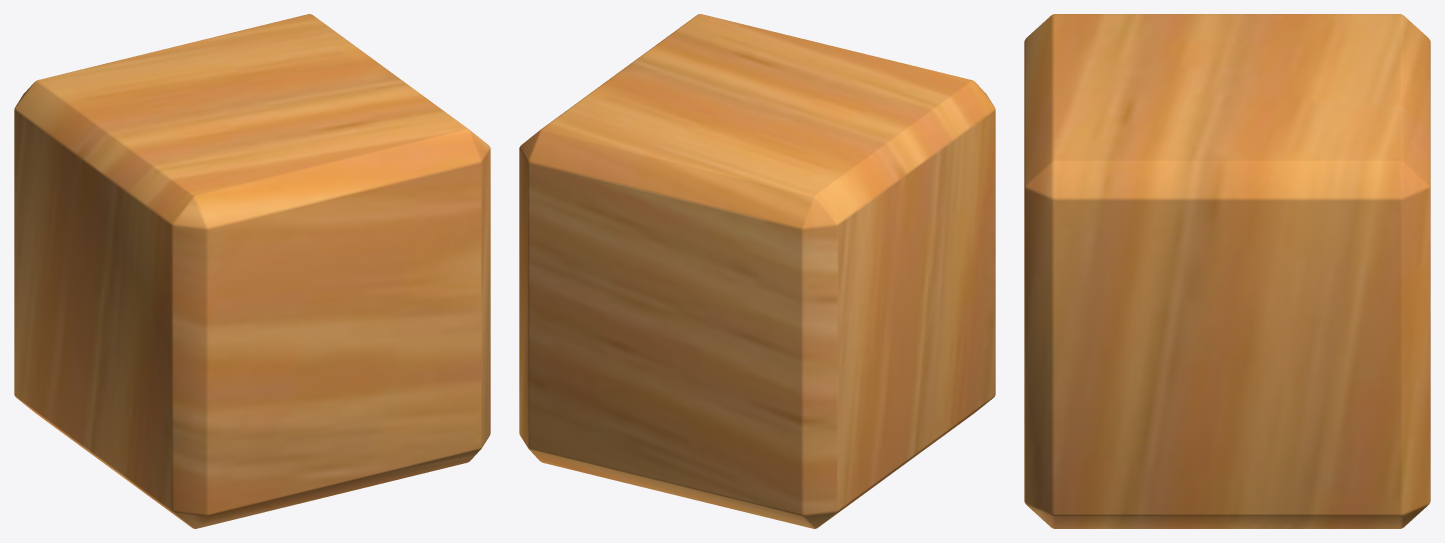
File: block2.fbx
3 renders of one model, left to right at view 1: azimuth 30°, elevation 25°; view 2: azimuth 150°, elevation 25°; view 3: azimuth 270°, elevation 25°, orthographic. The views are drawn at different scales.
Parts seen in each view (by area): view 1: block2; view 2: block2; view 3: block2.
Boxes of the visible parts, x1,y1,x2,y2 form: block2: [14, 14, 490, 528]; block2: [519, 14, 995, 528]; block2: [1024, 14, 1430, 528].
Size of the model in its own units: 200 by 200 by 200.
